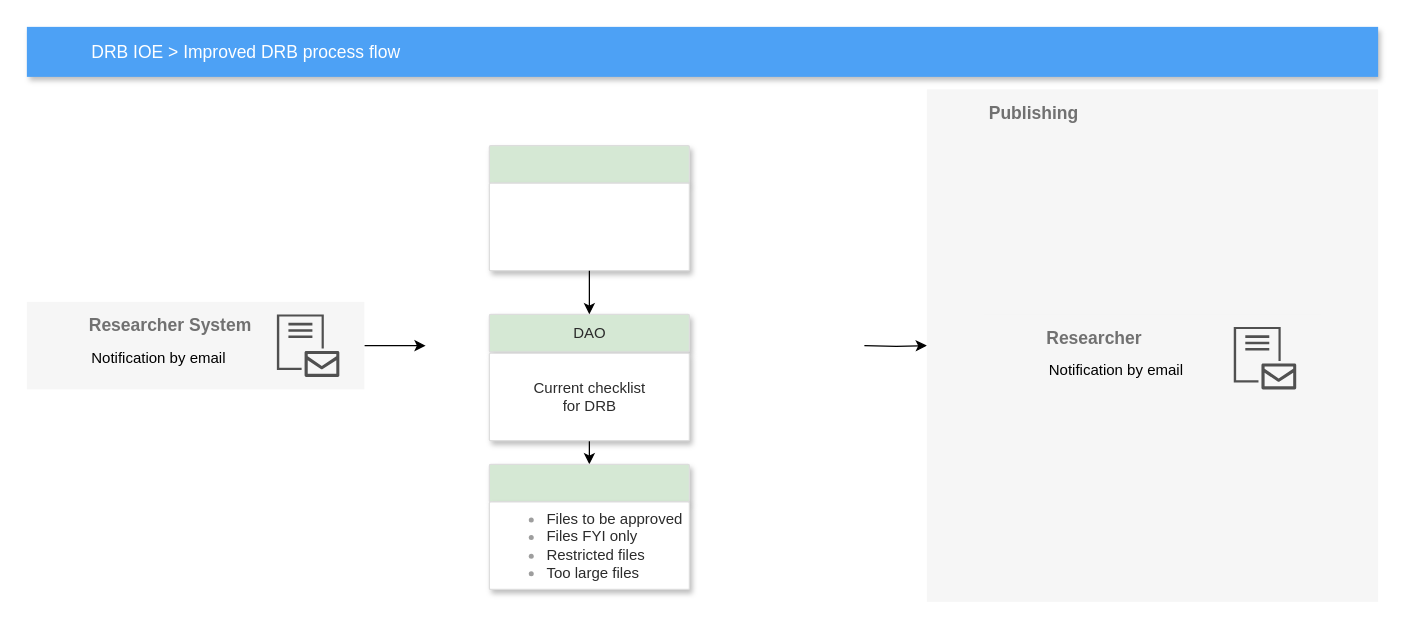
Some shapes in this 1406 by 623 pixel diagram are drawn without their labels. The centre of each missing label's shape, as x and y in pixels:
Disclosure interface of the CMS: (590,228)
DRB: (590,484)
RDC admin perspective: (590,165)
